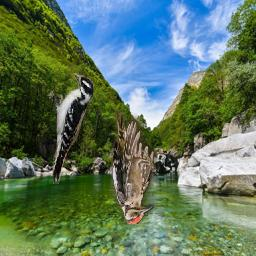Woodpecker: (112, 110, 159, 225), (48, 74, 95, 185)
